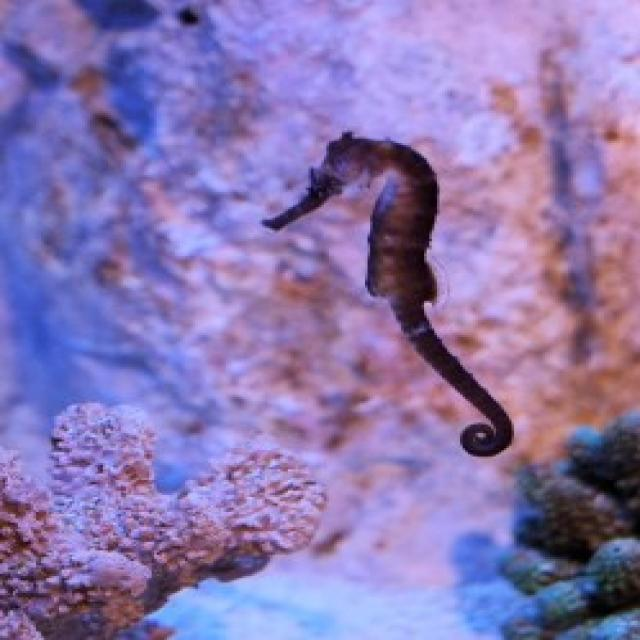Seahorse: (257, 124, 526, 466)
